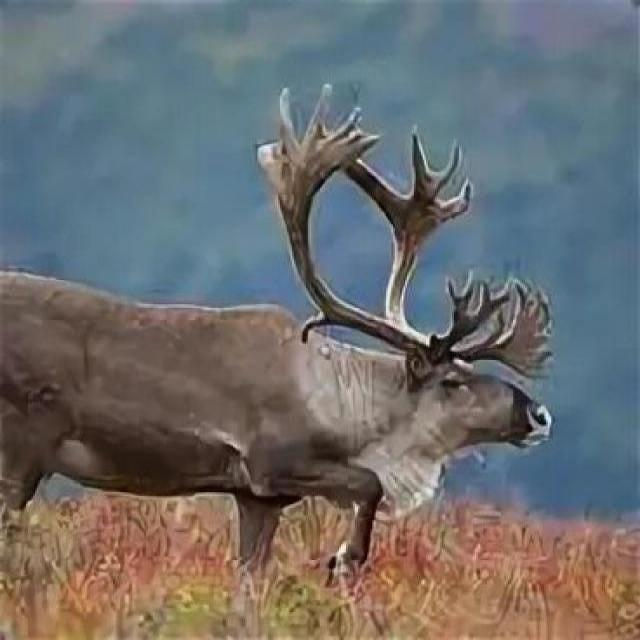deer: (0, 90, 569, 626)
